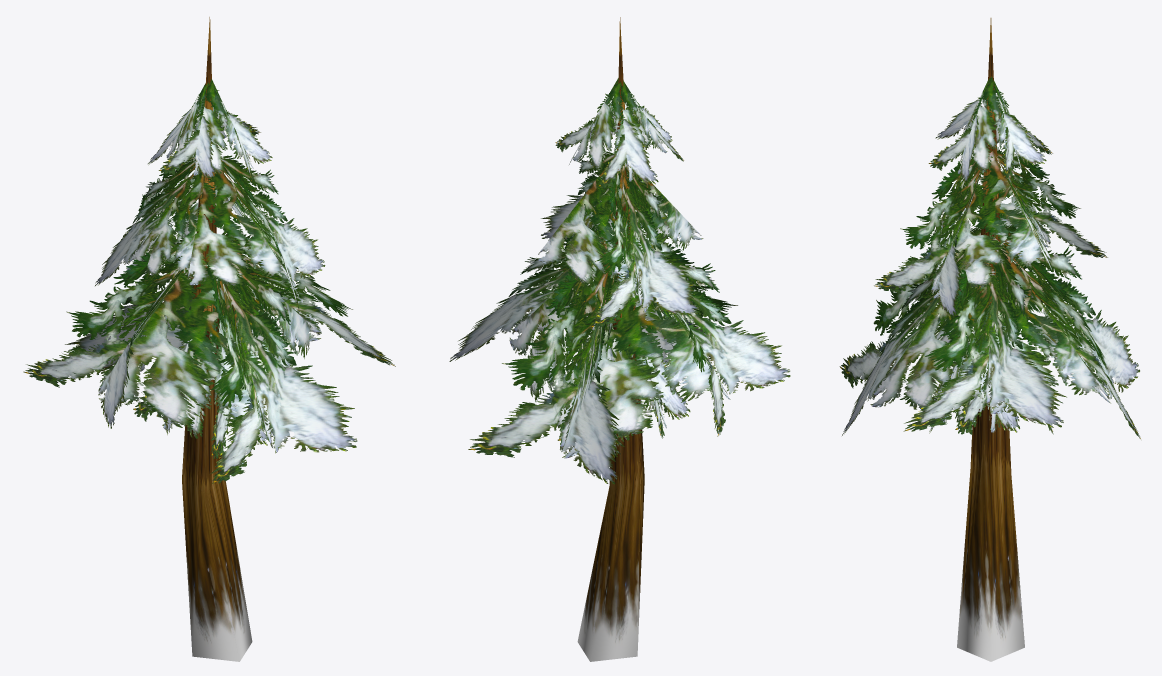
The model's file is wintersmalltree01.obj.
The picture shows the model from 3 angles, left to right: view 1: azimuth 30°, elevation 25°; view 2: azimuth 150°, elevation 25°; view 3: azimuth 270°, elevation 25°; orthographic projection.
Parts seen in each view (by area): view 1: Geoset1, Geoset0; view 2: Geoset1, Geoset0; view 3: Geoset1, Geoset0.
Part boxes in pixels (x1,y1,x2,y2): Geoset1: (23,79,395,483); Geoset0: (182,17,252,661); Geoset1: (449,78,790,484); Geoset0: (577,17,644,661); Geoset1: (839,76,1140,438); Geoset0: (957,18,1024,661).
Size of the model in its own units: 5.63 by 11.71 by 5.3.
Materials: 2 (2 with a texture image).
